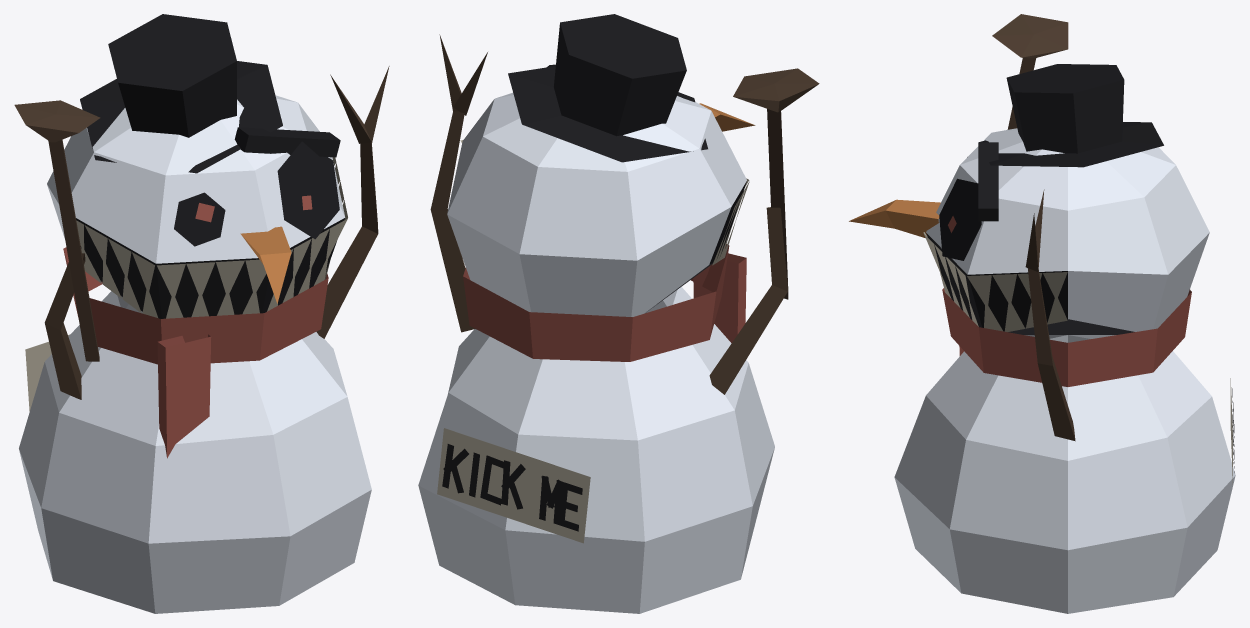
Rendered from gag_snowman.glb.
3 renders of one model, left to right at view 1: azimuth 30°, elevation 25°; view 2: azimuth 150°, elevation 25°; view 3: azimuth 270°, elevation 25°, orthographic. The views are drawn at different scales.
Parts seen in each view (by area): view 1: Scenery; view 2: Scenery; view 3: Scenery.
Boxes of the visible parts, box(x1,y1,x2,y2) form: Scenery: box(14, 14, 389, 613); Scenery: box(418, 14, 819, 613); Scenery: box(849, 14, 1235, 613).
Size of the model in its own units: 2.33 by 3.1 by 2.29.
